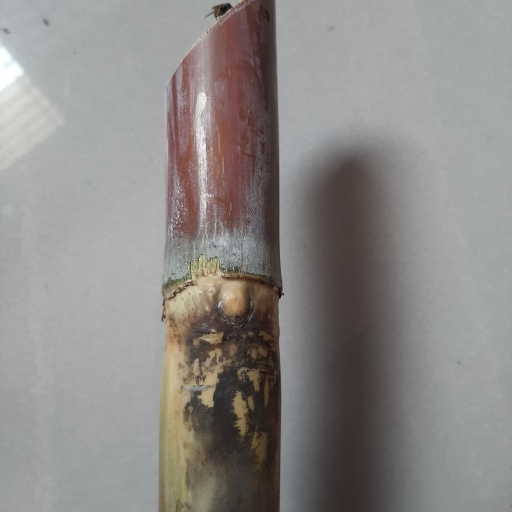Bud: (216, 282, 254, 325)
